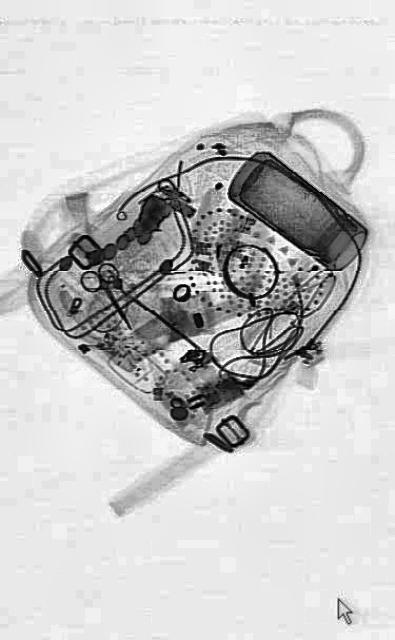Scissors: (76, 244, 142, 346)
